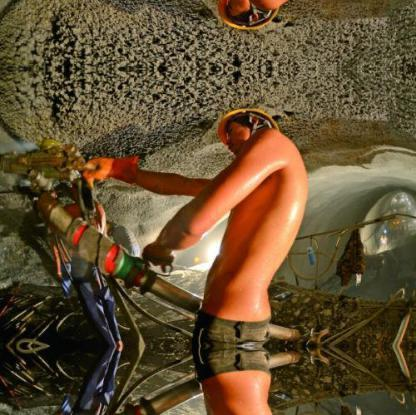helmet: (214, 99, 280, 139)
